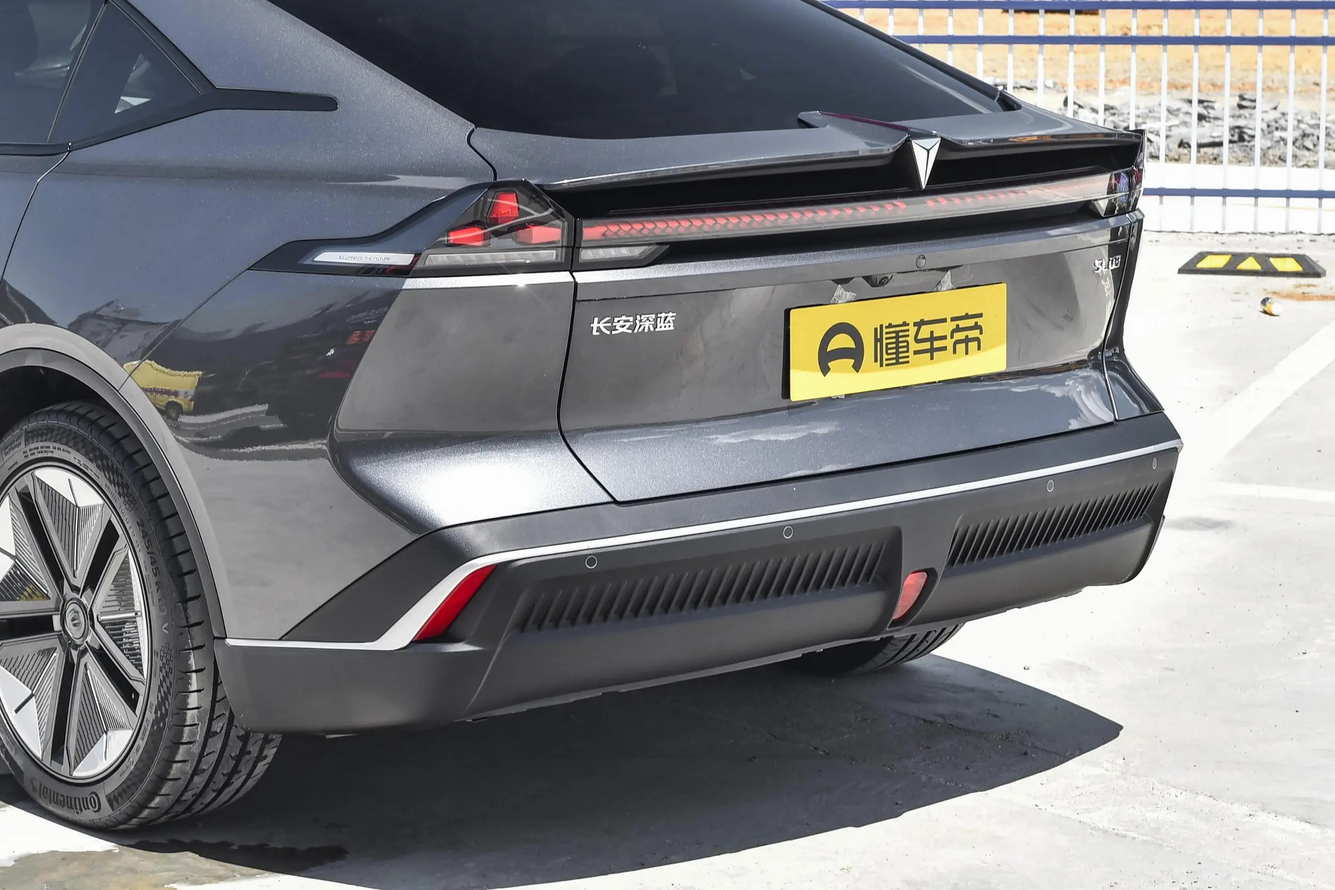Deepal: (911, 138, 940, 188)
